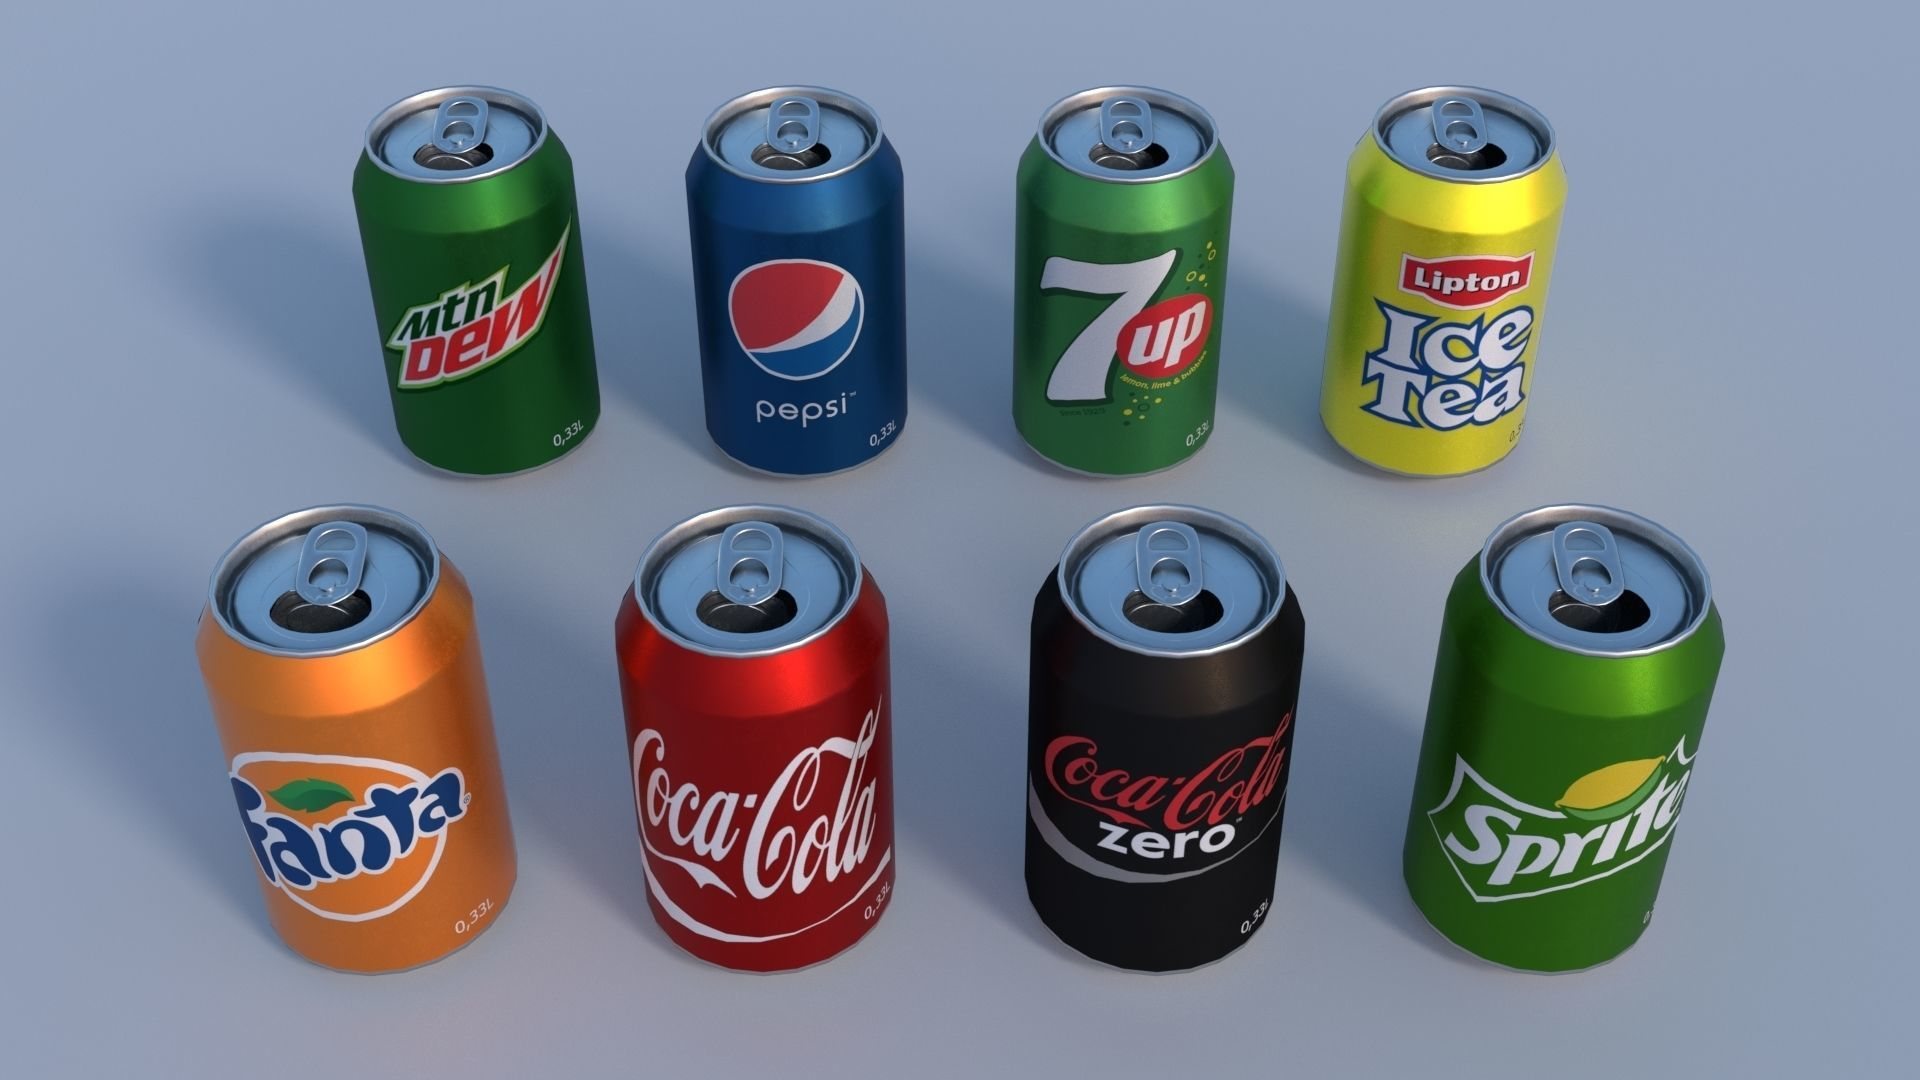can: (160, 485, 555, 1021), (986, 475, 1331, 1029), (1393, 485, 1720, 1004), (603, 501, 923, 990), (1309, 22, 1627, 489), (981, 44, 1296, 483), (335, 67, 653, 485), (671, 61, 953, 477)
